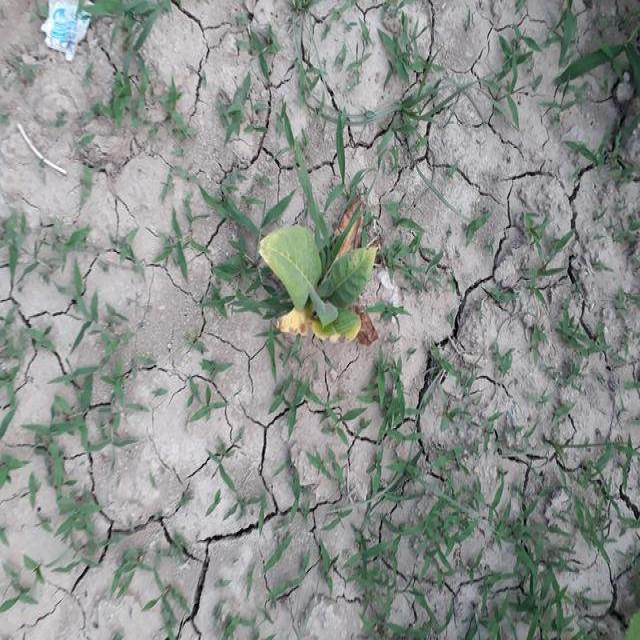crop: (248, 198, 388, 364)
